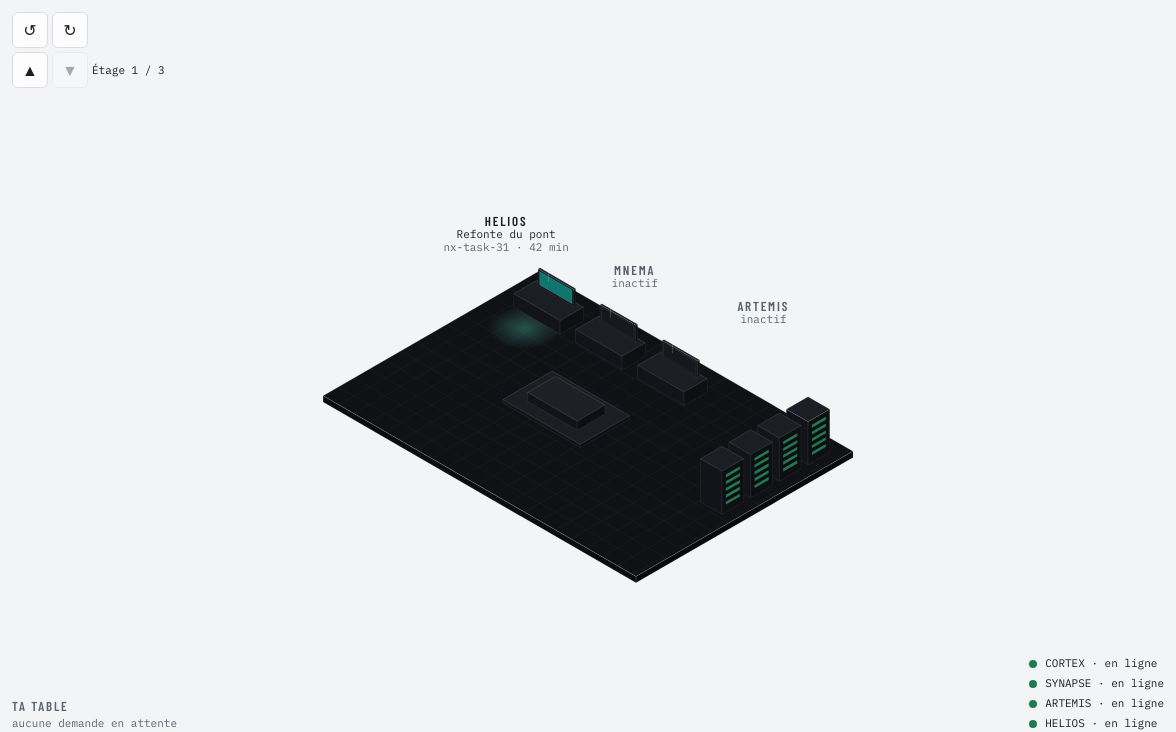
Test: ▲ affiche l'étage 2 : quatre baies, aucun poste ni table, la table reste dans son coin, légende des nœuds de l'étage
Click the button named "Monter d'un étage".
click(30, 70)  # box [12,52,48,88]
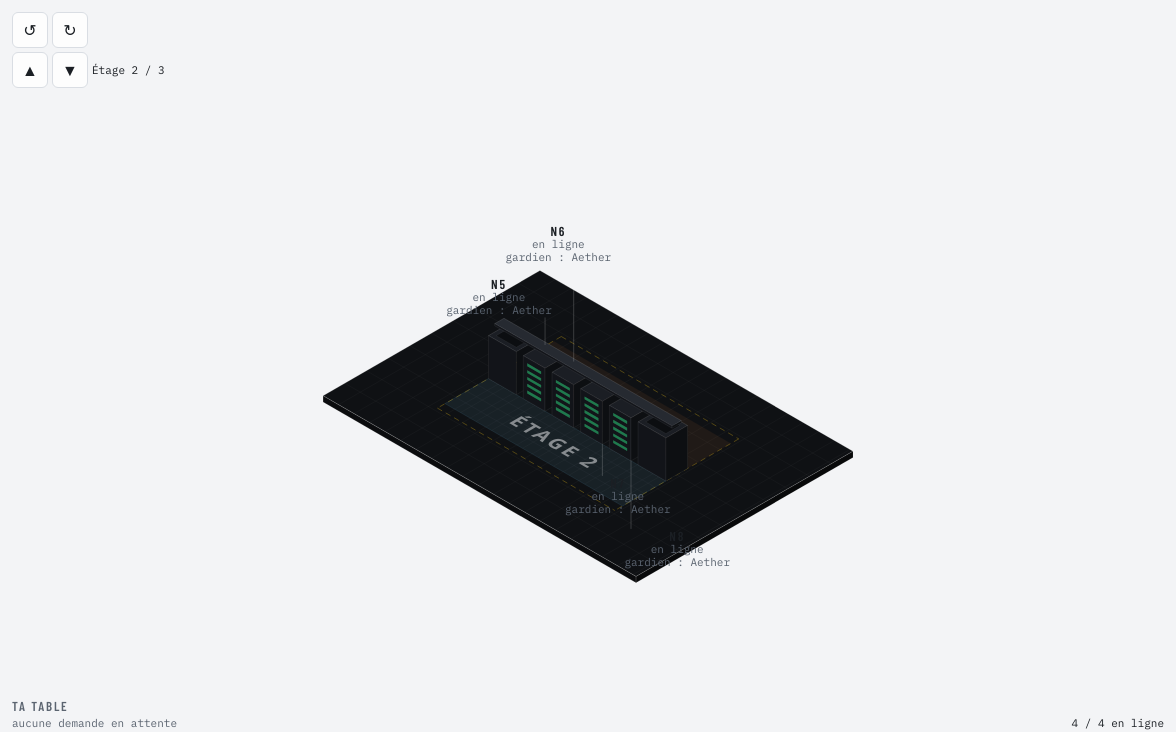
Expected: the text "TA TABLE" is shown, [12,698,69,714]
Now the element showing "Étage 2 / 3" is shown, box [92,62,165,76]
Now the picture named "Étage 2 de Nexus : salle des serveurs, 4 baies" is shown
